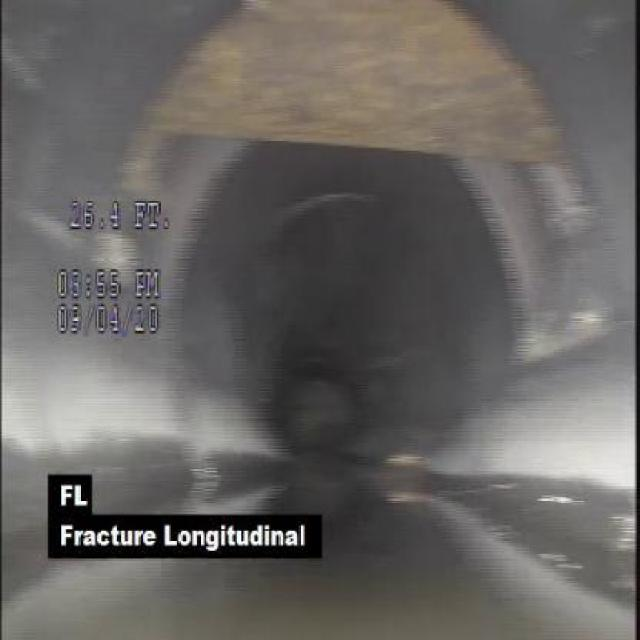Utility intrusion: (124, 2, 578, 180)
